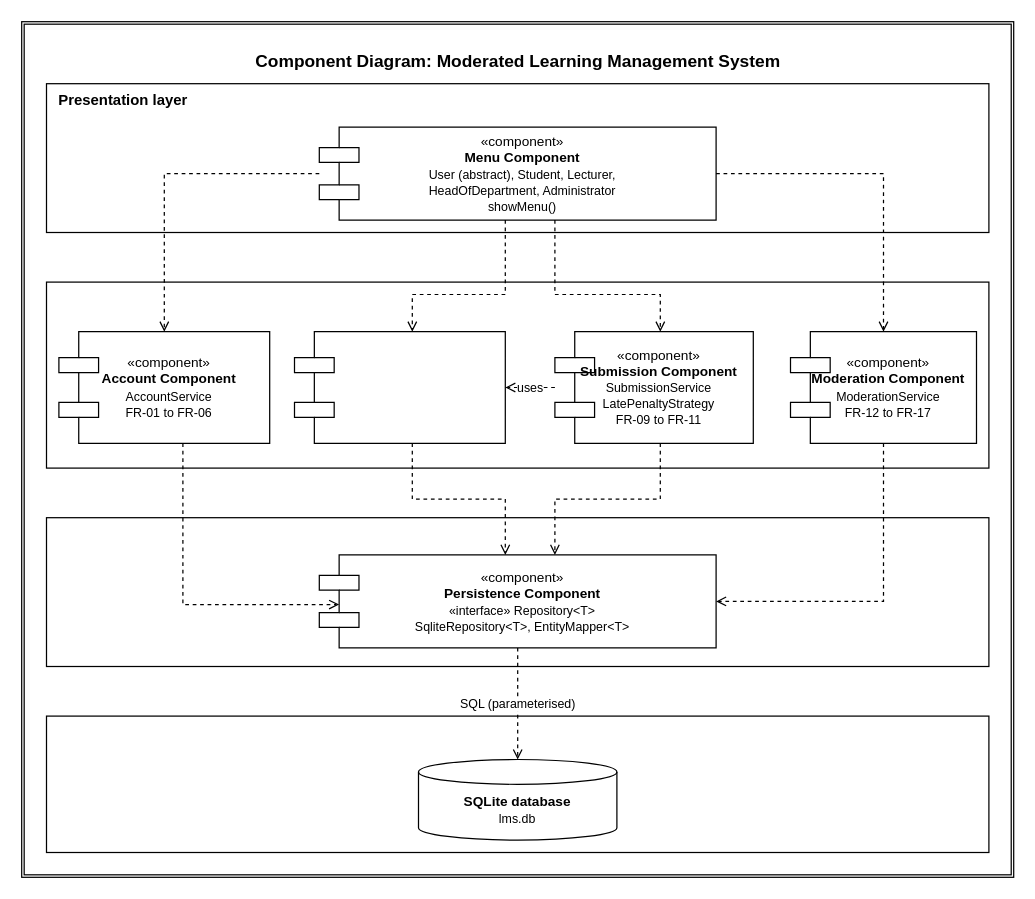
This 1035x899 diagram has some shape labels left out. Each missing label, with the box of its shape:
Business (service) layer: (45, 281, 989, 468)
Data access layer: (45, 516, 989, 666)
Storage layer: (45, 715, 989, 852)
«component» Assignment Component AssignmentService FR-07, FR-08: (293, 330, 505, 443)
